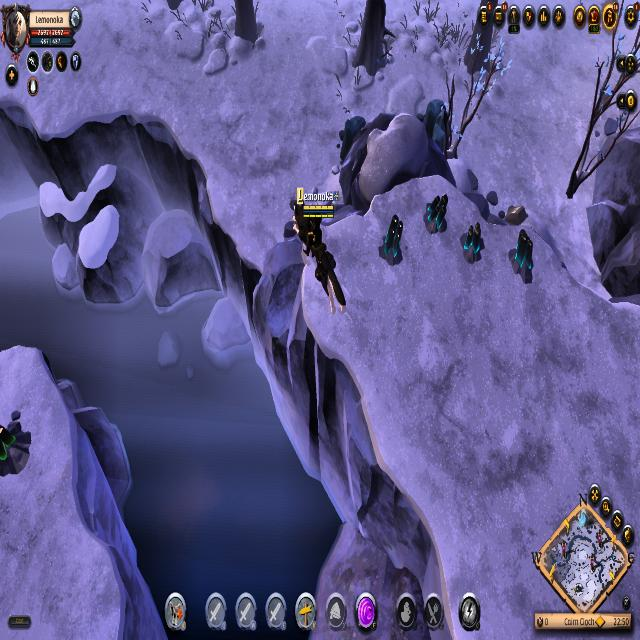ore tier 3: (0, 416, 32, 482)
ore tier 4: (508, 222, 536, 286), (379, 212, 406, 271), (458, 223, 484, 268), (424, 192, 448, 237)
